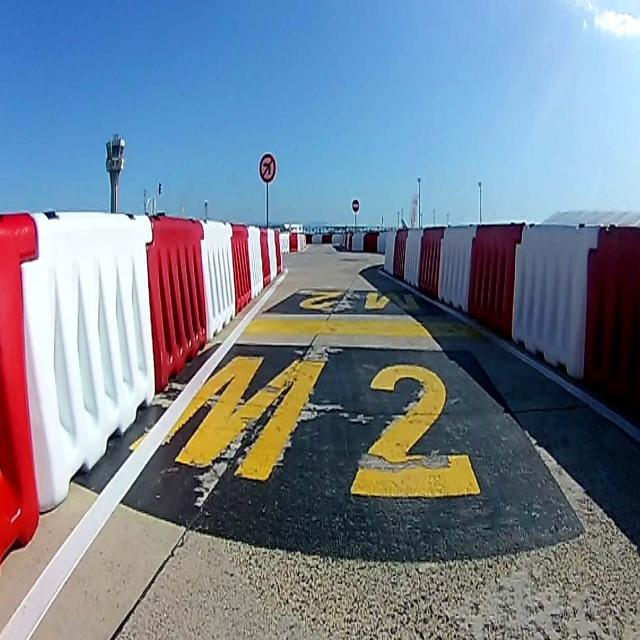girisyok: (352, 199, 360, 213)
soladonulmez: (259, 154, 276, 184)
